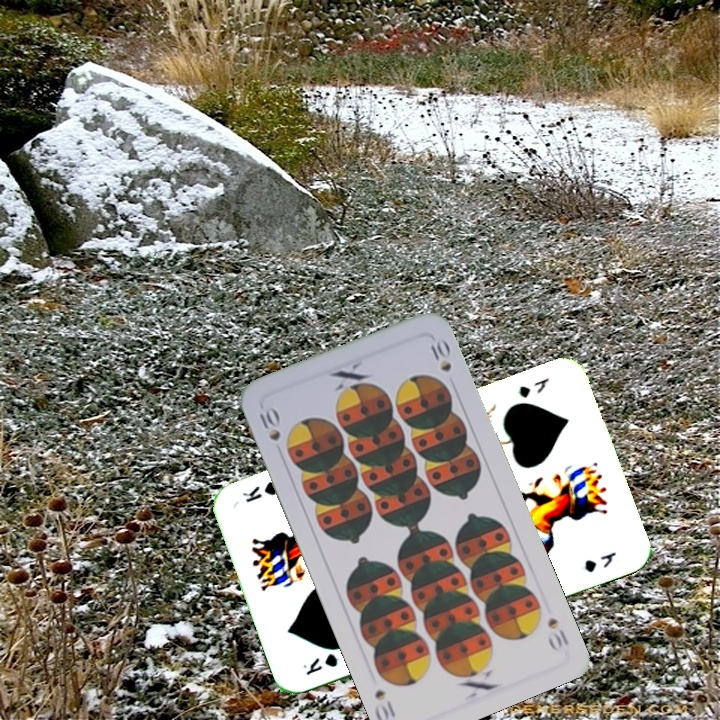GK: (299, 649, 343, 678), (514, 373, 552, 401)
S10: (253, 402, 283, 444), (543, 613, 572, 654)
